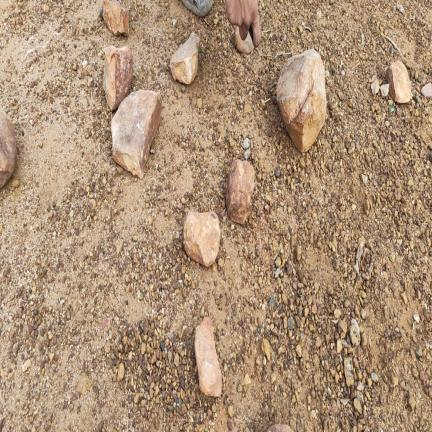Rocks: (277, 50, 326, 151), (112, 90, 161, 178), (195, 317, 221, 396), (184, 212, 220, 266), (103, 46, 132, 110), (227, 160, 254, 225), (170, 33, 199, 84), (0, 110, 16, 188), (387, 61, 411, 103), (103, 0, 129, 35), (235, 27, 253, 54), (76, 372, 91, 395), (349, 319, 360, 346), (344, 357, 353, 386), (262, 339, 271, 361), (421, 83, 431, 98), (268, 425, 293, 431), (117, 363, 125, 381), (354, 398, 362, 414), (243, 374, 252, 386), (380, 85, 389, 97), (22, 360, 31, 372), (408, 396, 416, 409), (370, 372, 378, 383), (243, 138, 250, 150), (336, 339, 342, 353), (228, 405, 234, 418), (361, 174, 368, 185), (414, 313, 419, 323)
